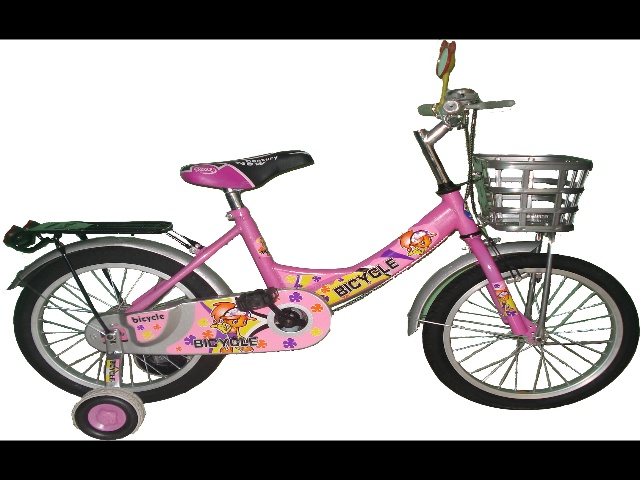bike: (12, 61, 637, 455)
